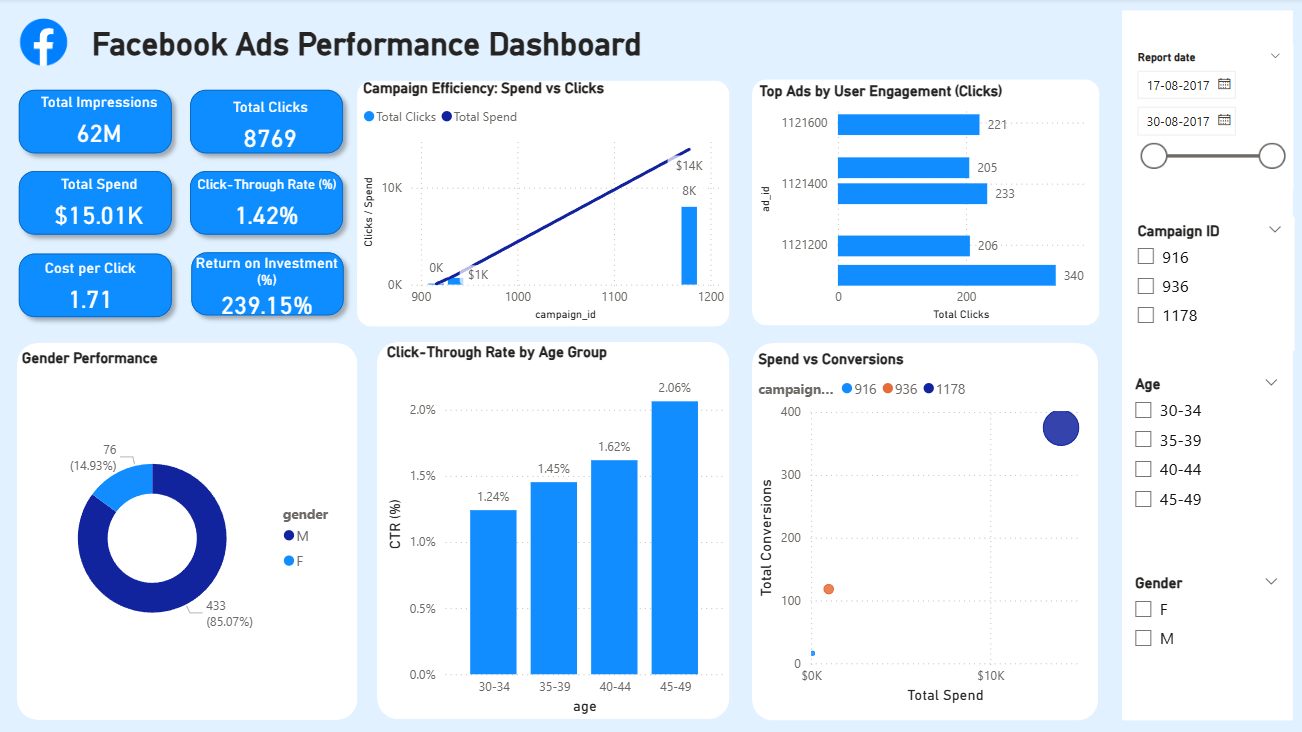

This screenshot's page, from the dashboard's own definition file:
{"tool":"powerbi","page":{"name":"Page 1","canvas":[1280,720],"ordinal":0},"visuals":[{"type":"shape","box":[20.1,337.4,333,368.7],"z":0},{"type":"image","box":[0,0,91.7,86.7],"z":1000},{"type":"textbox","title":"Facebook Ads Performance Dashboard","box":[88.4,26.8,650.7,40.2],"z":2000},{"type":"shape","box":[12.5,80.4,167.9,80.4],"z":3000},{"type":"shape","box":[180.4,80.4,167.9,80.4],"z":4000},{"type":"shape","box":[12.5,160.7,167.9,80.4],"z":5000},{"type":"shape","box":[180.4,160.7,167.9,80.4],"z":6000},{"type":"shape","box":[12.5,241.1,167.9,80.4],"z":7000},{"type":"shape","box":[180.6,239.8,167.3,79.9],"z":8000},{"type":"shape","box":[1100.5,12.2,167.5,694.6],"z":9000},{"type":"shape","box":[352.2,80.7,364.4,240.9],"z":10000},{"type":"shape","box":[738.6,79.5,339.9,240.9],"z":11000},{"type":"shape","box":[371.7,336.3,344.8,369.3],"z":12000},{"type":"shape","box":[738.6,337.5,338.7,369.3],"z":13000},{"type":"lineClusteredColumnComboChart","title":"Campaign Efficiency: Spend vs Clicks","fields":{"Category":["data.campaign_id"],"Y":["data.Total Clicks"],"Y2":["data.Total Spend"]},"box":[353.4,79.5,364.4,240.9],"z":14000},{"type":"clusteredColumnChart","title":"Click-Through Rate by Age Group","fields":{"Category":["data.age"],"Y":["data.CTR (%)"]},"box":[376.6,337.5,339.9,368.1],"z":15000},{"type":"scatterChart","title":"Spend vs Conversions","fields":{"X":["data.Total Spend"],"Y":["data.Total Conversions"],"Series":["data.campaign_id"],"Size":["data.Total Impressions"]},"box":[739.8,344.8,338.7,349.7],"z":16000},{"type":"card","title":"Total Impressions","fields":{"Values":["data.Total Impressions"]},"box":[19.6,92.9,160.7,60.7],"z":17000},{"type":"card","title":"Total Clicks","fields":{"Values":["data.Total Clicks"]},"box":[187.5,98.2,160.7,60.7],"z":18000},{"type":"card","title":"Total Spend","fields":{"Values":["data.Total Spend"]},"box":[19.6,173.2,160.7,60.7],"z":19000},{"type":"card","title":"Cost per Click","fields":{"Values":["data.CPC"]},"box":[10.7,255.4,160.7,60.7],"z":20000},{"type":"card","title":"Click-Through Rate (%)","fields":{"Values":["data.CTR (%)"]},"box":[183.2,174.3,160.9,60.3],"z":21000},{"type":"card","title":"Return on Investment (%)","fields":{"Values":["data.ROI"]},"box":[183.5,250.1,161.3,65.1],"z":22000},{"type":"slicer","fields":{"Values":["data.campaign_id"]},"box":[1103,214,166.3,130.8],"z":23000},{"type":"slicer","fields":{"Values":["data.reporting_start"]},"box":[1103,46.5,165.1,140.6],"z":24000},{"type":"slicer","fields":{"Values":["data.age"]},"box":[1100.5,364.4,165.1,156.5],"z":25000},{"type":"slicer","fields":{"Values":["data.gender"]},"box":[1100.5,558.8,165.1,92.9],"z":26000},{"type":"clusteredBarChart","title":"Top Ads by User Engagement (Clicks)","fields":{"Category":["data.ad_id"],"Y":["data.Total Clicks"]},"box":[740.8,81.9,338.3,238.6],"z":27000},{"type":"donutChart","title":"Gender Performance","fields":{"Category":["data.gender"],"Y":["data.Total Conversions"]},"box":[19.6,343.6,328.9,353.4],"z":28000}]}

Visuals, with their boxes in screenshot pixels (x1, y1, x2, y2), scaled from the page's 1280x720 canvas onto the 1302x732 screenshot:
shape: 20,343,359,718
image: 0,0,93,88
"Facebook Ads Performance Dashboard" textbox: 90,27,752,68
shape: 13,82,184,163
shape: 184,82,354,163
shape: 13,163,184,245
shape: 184,163,354,245
shape: 13,245,184,327
shape: 184,244,354,325
shape: 1119,12,1290,719
shape: 358,82,729,327
shape: 751,81,1097,326
shape: 378,342,729,717
shape: 751,343,1096,719
"Campaign Efficiency: Spend vs Clicks" lineClusteredColumnComboChart: 359,81,730,326
"Click-Through Rate by Age Group" clusteredColumnChart: 383,343,729,717
"Spend vs Conversions" scatterChart: 753,351,1097,706
"Total Impressions" card: 20,94,183,156
"Total Clicks" card: 191,100,354,162
"Total Spend" card: 20,176,183,238
"Cost per Click" card: 11,260,174,321
"Click-Through Rate (%)" card: 186,177,350,239
"Return on Investment (%)" card: 187,254,351,320
slicer - data.campaign_id: 1122,218,1291,351
slicer - data.reporting_start: 1122,47,1290,190
slicer - data.age: 1119,370,1287,530
slicer - data.gender: 1119,568,1287,663
"Top Ads by User Engagement (Clicks)" clusteredBarChart: 754,83,1098,326
"Gender Performance" donutChart: 20,349,354,709
